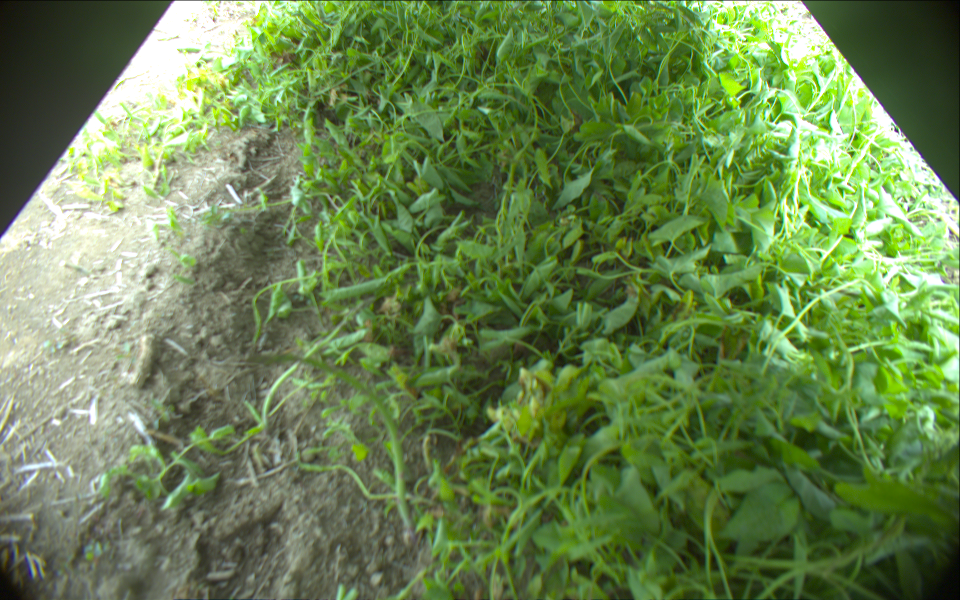aspa: (238, 356, 413, 532)
